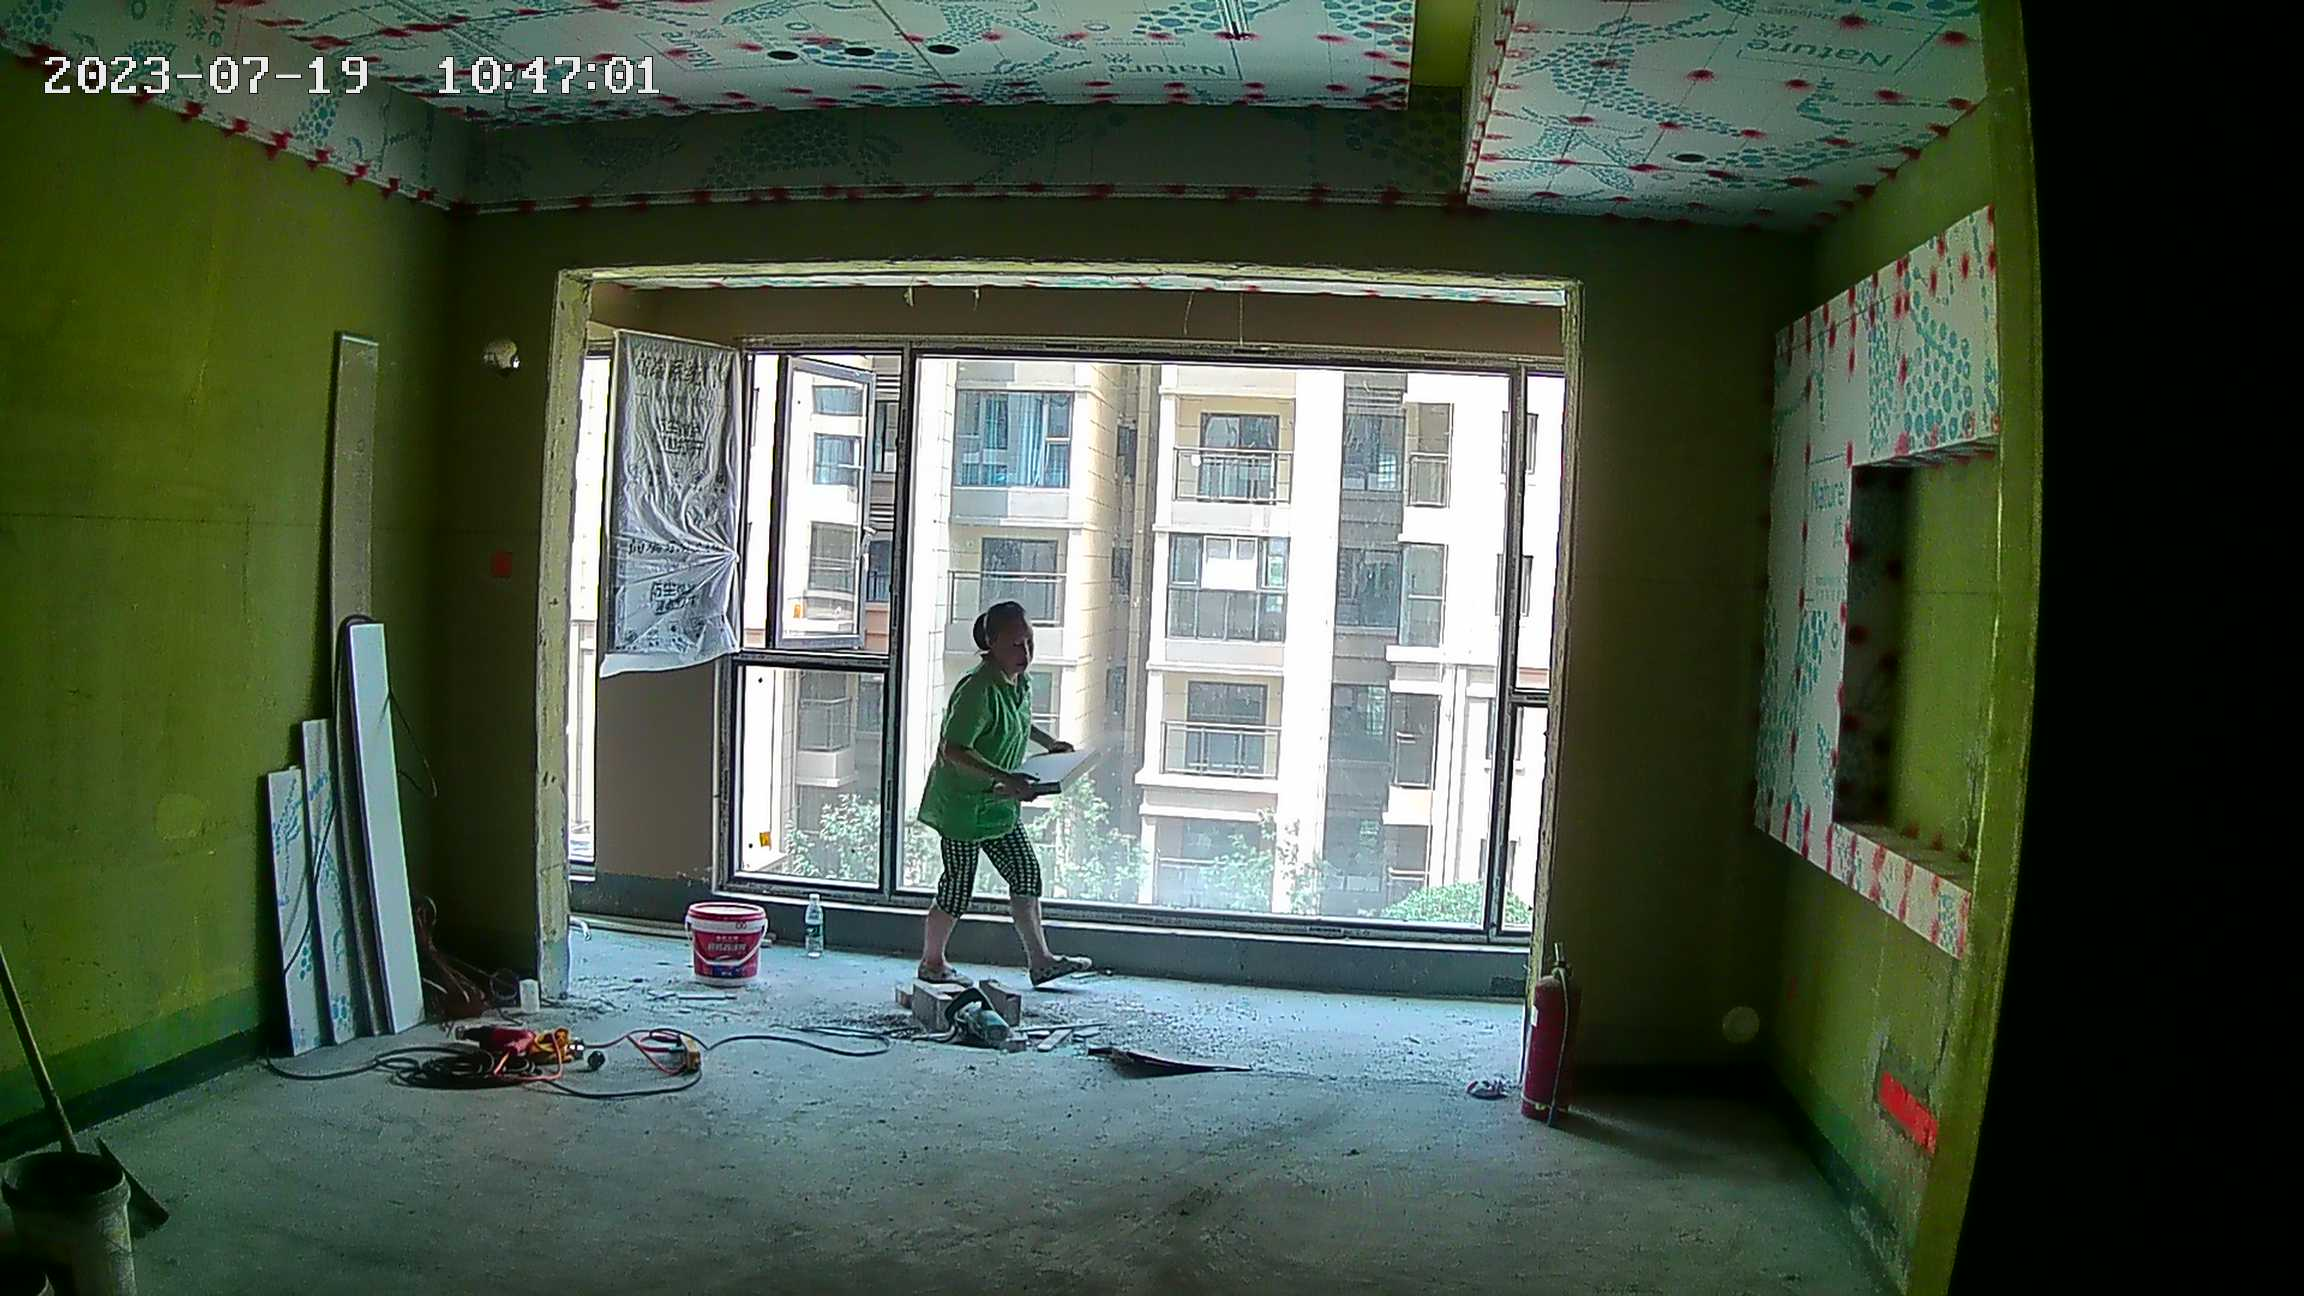people: (910, 602, 1085, 988)
window: (723, 343, 1535, 949)
